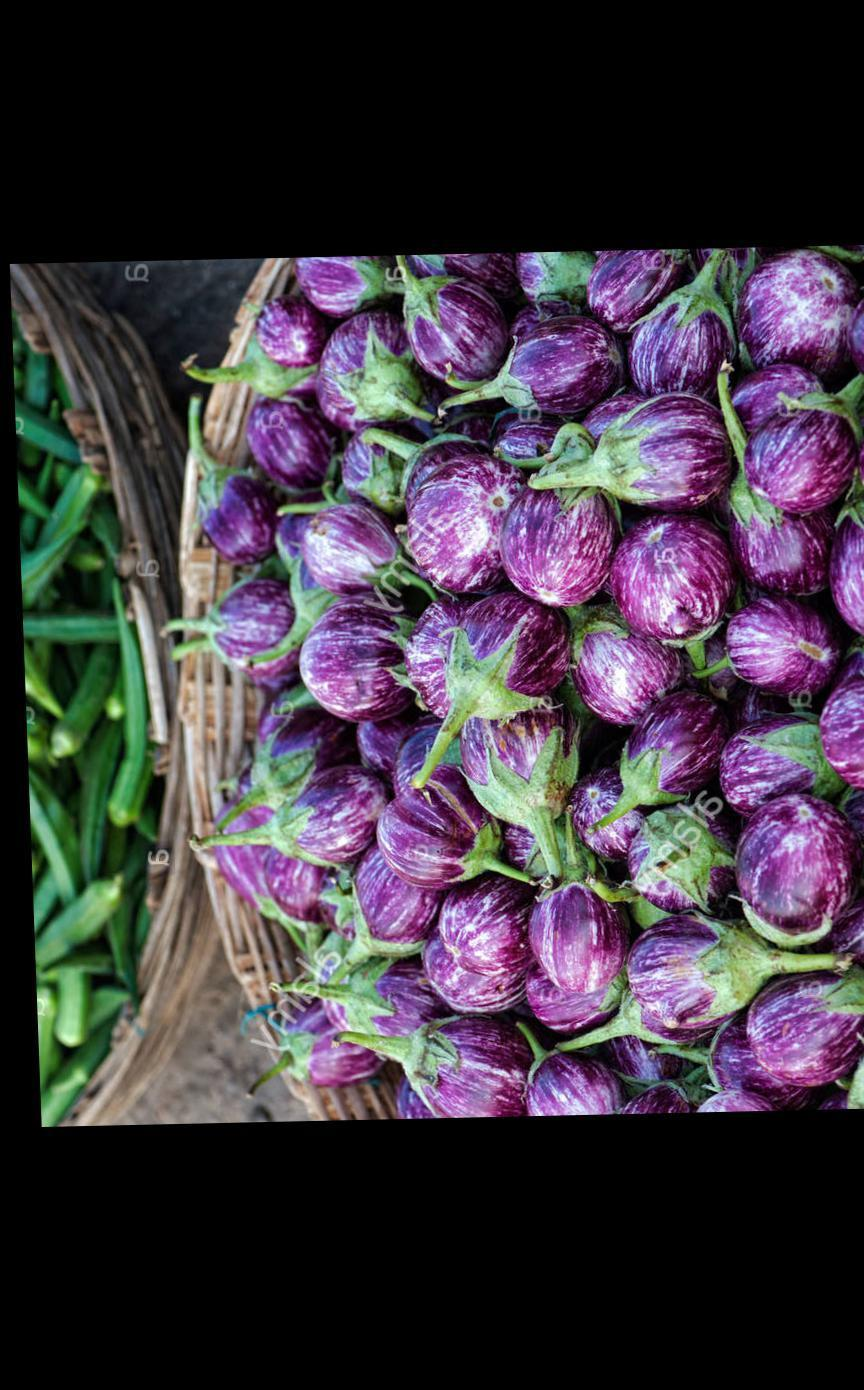eggplant: (279, 294, 863, 1035)
